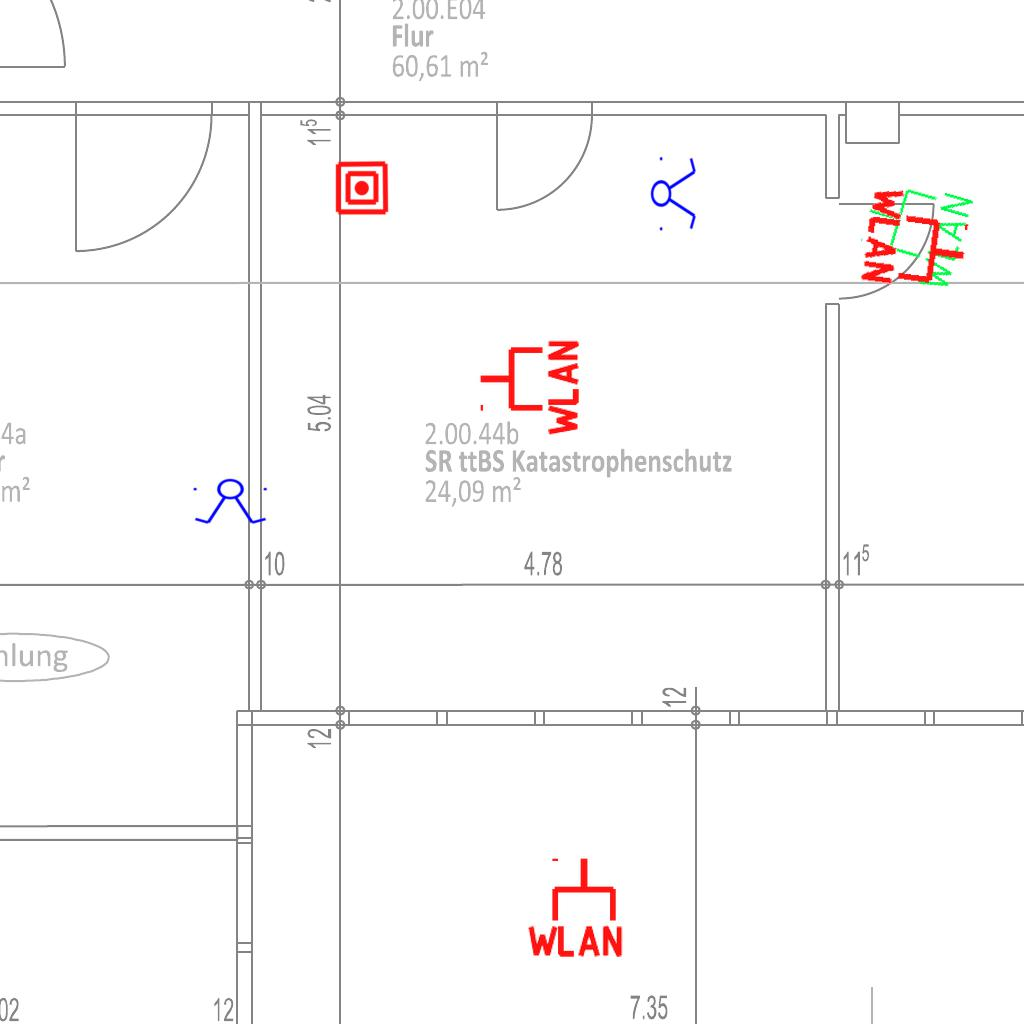NAM-Nichtautomatischer_Melder: (334, 160, 390, 216)
Serienschalter: (189, 478, 273, 526), (650, 151, 698, 235)
WLAN: (849, 168, 979, 299), (858, 181, 977, 299), (523, 854, 627, 959), (476, 336, 581, 440)
